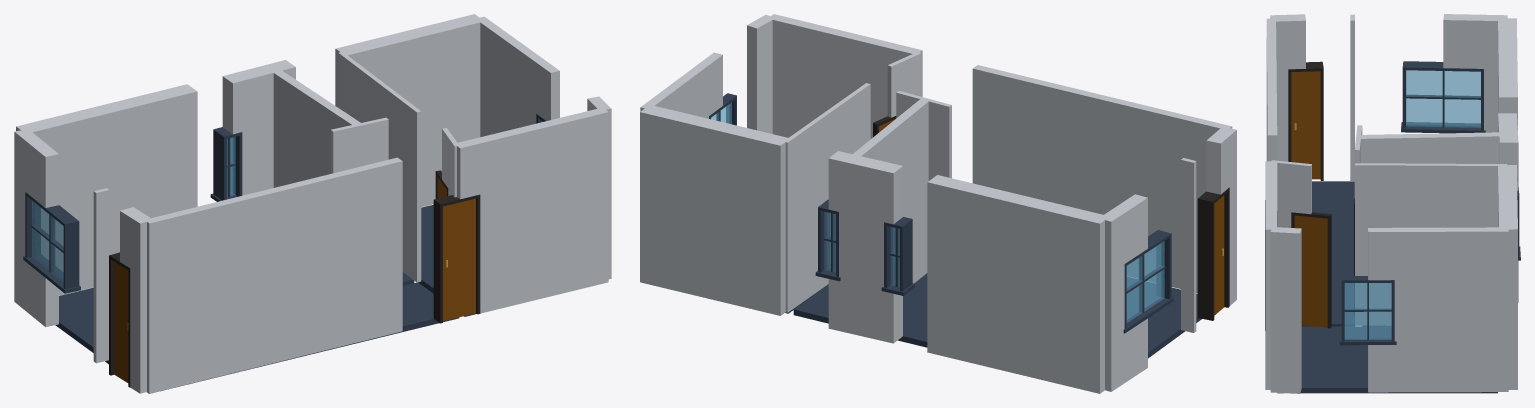
The model's file is reconstructed_scene.glb.
The picture shows the model from 3 angles, left to right: view 1: azimuth 30°, elevation 25°; view 2: azimuth 150°, elevation 25°; view 3: azimuth 270°, elevation 25°; orthographic projection. The views are drawn at different scales.
Visible parts, largest first — view 1: wall_w12, wall_w14, wall_w1, wall_w4, wall_w7, wall_w5, wall_w6, door_d4, wall_w2, wall_w3, window_win3, wall_w11 (+8 smaller); view 2: wall_w1, wall_w12, wall_w4, wall_w3, wall_w14, wall_w7, wall_w2, wall_w6, door_d3, window_win3, floor_room1, wall_w13 (+9 smaller); view 3: wall_w5, wall_w7, window_win3, wall_w13, floor_room3, wall_w6, wall_w2, floor_room1, door_d3, door_d2, window_win4, wall_w4 (+8 smaller).
Part boxes in pixels (x1,y1,x2,y2): wall_w12: (146, 157, 402, 393); wall_w14: (455, 107, 608, 313); wall_w1: (16, 84, 197, 295); wall_w4: (335, 14, 484, 207); wall_w7: (338, 51, 421, 282); wall_w5: (476, 16, 559, 137); wall_w6: (269, 67, 361, 187); door_d4: (433, 194, 480, 323); wall_w2: (14, 128, 58, 327); wall_w3: (222, 60, 295, 195); window_win3: (23, 192, 80, 293); wall_w11: (120, 207, 153, 393); wall_w1: (927, 175, 1106, 393); wall_w12: (972, 65, 1232, 292); wall_w4: (640, 106, 789, 315); wall_w3: (828, 151, 902, 343); wall_w14: (769, 14, 922, 138); wall_w7: (784, 83, 870, 312); wall_w2: (1099, 194, 1147, 391); wall_w6: (853, 98, 929, 283); door_d3: (1197, 187, 1229, 320); window_win3: (1123, 230, 1173, 333); floor_room1: (898, 273, 1201, 358); wall_w13: (747, 14, 774, 133); wall_w5: (1368, 227, 1508, 392); wall_w7: (1355, 163, 1507, 325); window_win3: (1401, 61, 1485, 133); wall_w13: (1270, 227, 1301, 393); floor_room3: (1277, 326, 1497, 393); wall_w6: (1358, 132, 1508, 163); wall_w2: (1443, 14, 1507, 132); floor_room1: (1301, 181, 1354, 326); door_d3: (1288, 61, 1323, 180); door_d2: (1291, 212, 1331, 328); window_win4: (1339, 276, 1396, 345); wall_w4: (1498, 165, 1517, 389).
Bounding box in the file's own units: 8.86 × 3.1 × 4.33.
